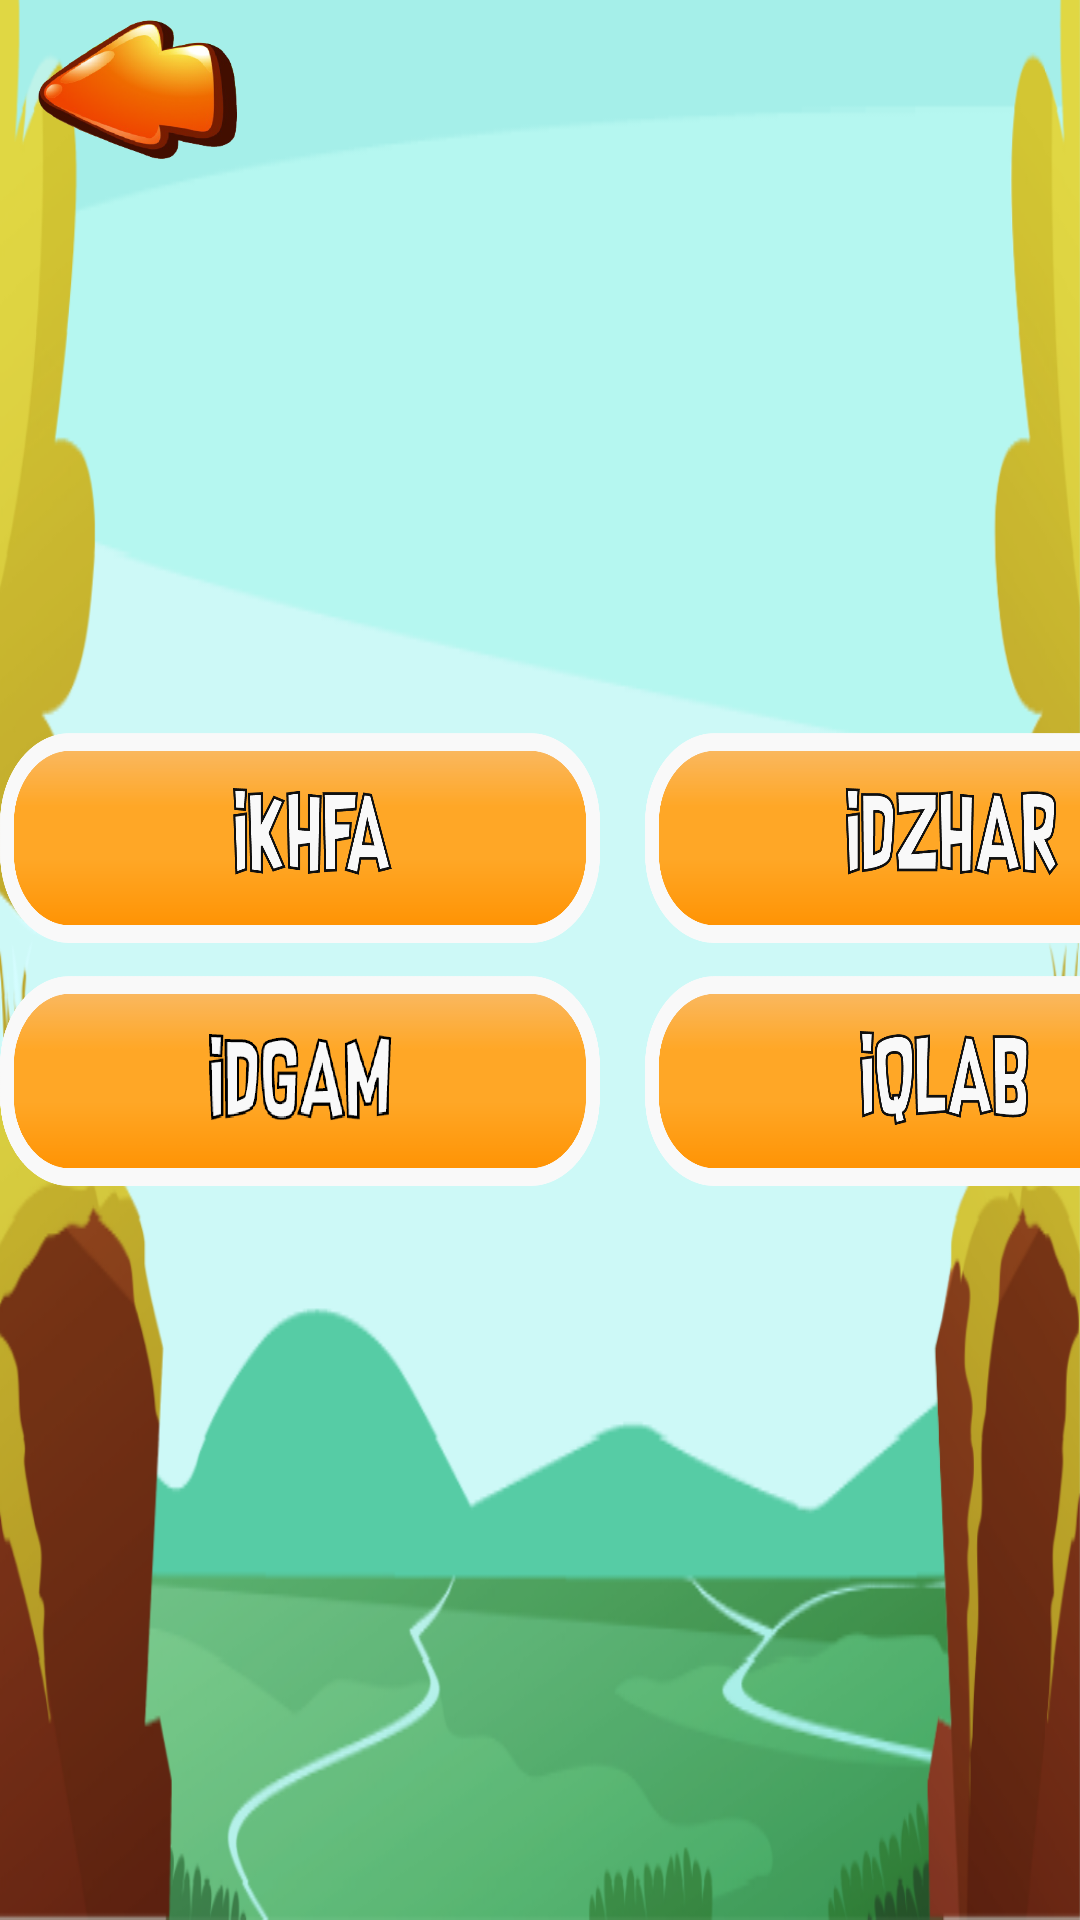

Named icons in this screenshot (1080px x 1920px) and their bounding boxes, (x1, y1, x2, y2):
back: (0, 0, 237, 180)
